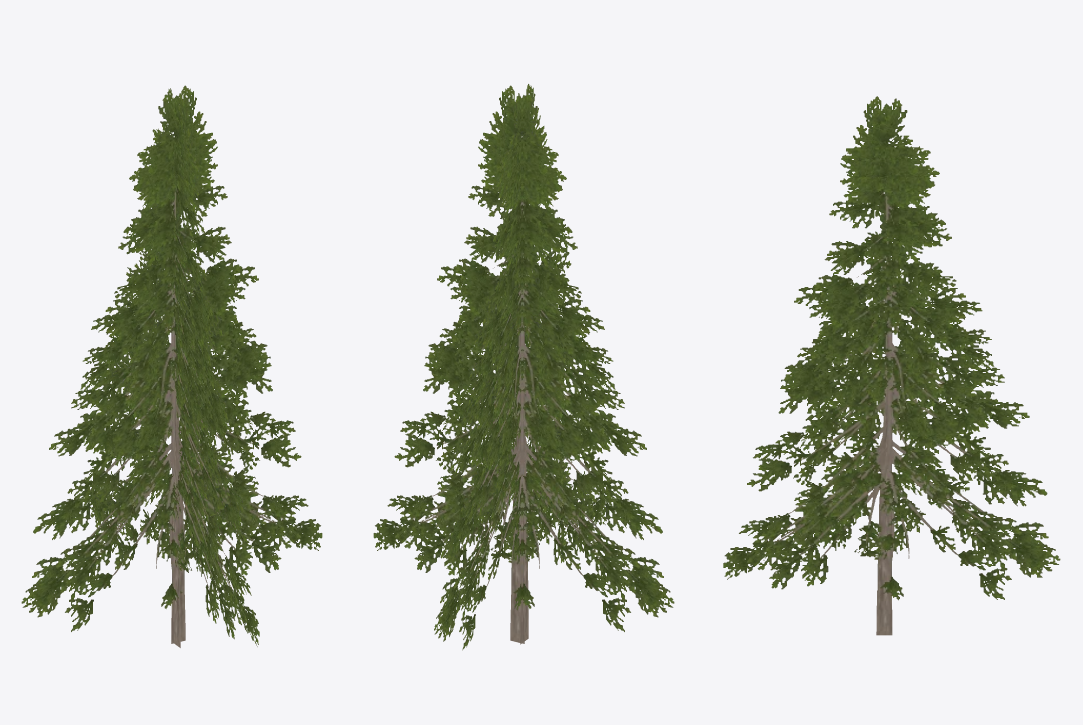
File: pine_large_a_far.glb
3 renders of one model, left to right at view 1: azimuth 30°, elevation 25°; view 2: azimuth 150°, elevation 25°; view 3: azimuth 270°, elevation 25°, orthographic. The views are drawn at different scales.
Parts seen in each view (by area): view 1: impostor; view 2: impostor; view 3: impostor.
Part boxes in pixels (x1=…): impostor: x1=21, y1=85, x2=322, y2=647; impostor: x1=373, y1=84, x2=674, y2=650; impostor: x1=723, y1=96, x2=1060, y2=635.
Size of the model in its own units: 10.12 by 17 by 10.12.
1 material, 1 textured.
